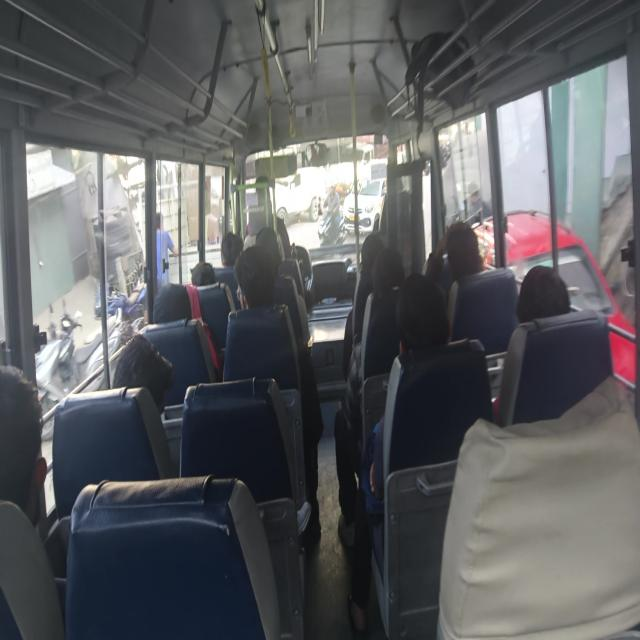person: (347, 273, 451, 636), (223, 244, 324, 541), (335, 246, 405, 546), (0, 363, 68, 580), (492, 264, 570, 424), (424, 220, 486, 334), (342, 232, 385, 379), (112, 332, 174, 416), (152, 261, 216, 323), (516, 264, 570, 324), (156, 211, 178, 287), (322, 183, 341, 243), (220, 231, 243, 268), (191, 260, 216, 286), (206, 203, 220, 245)
